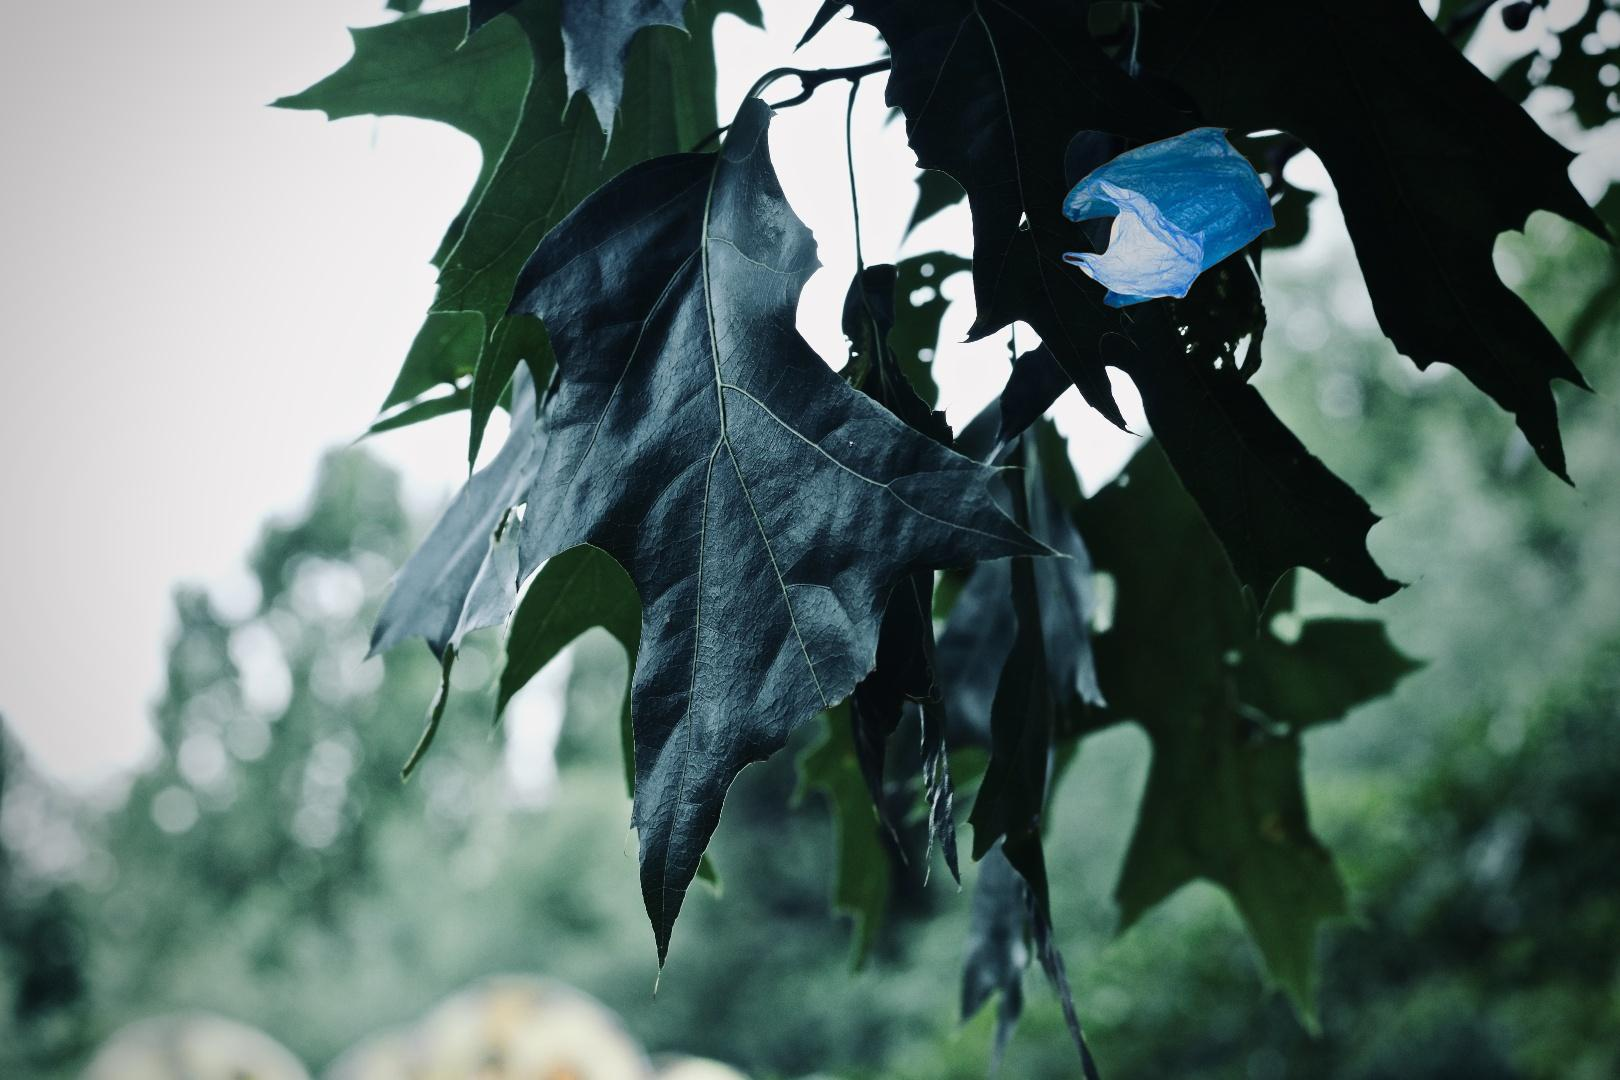plastic-bag: (1055, 124, 1278, 312)
